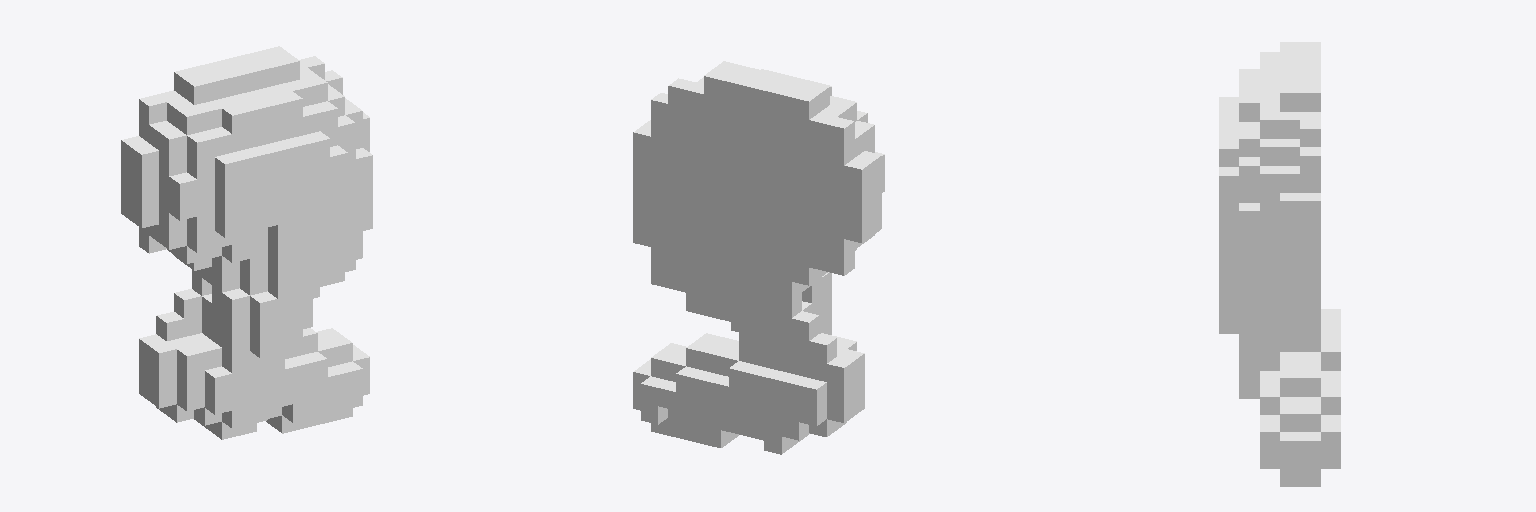
Rendered from raichu-7.obj.
The picture shows the model from 3 angles: view 1: azimuth 30°, elevation 25°; view 2: azimuth 150°, elevation 25°; view 3: azimuth 270°, elevation 25°; orthographic projection.
Visible parts, largest first — view 1: object 1; view 2: object 1; view 3: object 1.
Boxes of the visible parts, x1,y1,x2,y2 form: object 1: [121, 46, 372, 439]; object 1: [633, 61, 884, 454]; object 1: [1219, 42, 1340, 486].
Bounding box in the file's own units: 1.3 × 2 × 0.6.